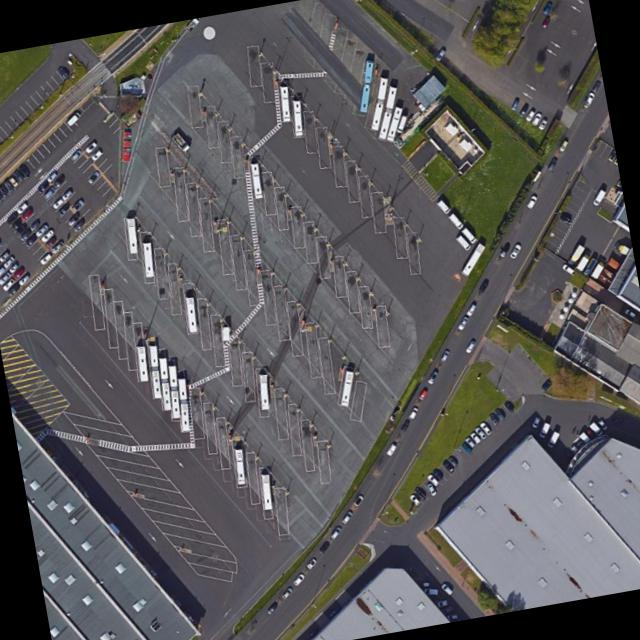large-vehicle: (369, 75, 388, 129), (378, 84, 396, 137), (461, 241, 485, 274), (359, 58, 373, 111), (167, 364, 180, 420), (148, 343, 161, 397), (158, 356, 170, 410), (177, 376, 189, 429), (386, 104, 403, 140), (340, 369, 353, 405), (574, 247, 592, 271), (136, 344, 148, 380), (567, 242, 585, 265), (589, 255, 606, 279), (185, 295, 196, 331), (251, 161, 262, 197), (292, 98, 303, 134), (261, 473, 272, 508), (142, 241, 153, 275), (127, 216, 137, 252), (280, 85, 290, 119), (235, 447, 244, 483), (581, 255, 597, 275), (259, 373, 268, 408)
small-vehicle: (170, 131, 191, 151), (459, 223, 476, 243), (447, 210, 464, 228), (591, 187, 606, 206), (454, 233, 471, 249), (40, 183, 57, 199), (64, 109, 81, 125), (49, 237, 65, 254), (537, 419, 551, 438), (595, 270, 611, 286), (50, 173, 66, 189), (55, 63, 70, 80), (545, 429, 559, 447), (411, 485, 426, 501), (587, 419, 602, 435), (59, 185, 74, 201), (4, 208, 19, 224), (17, 226, 33, 241), (11, 166, 26, 182), (86, 168, 101, 184), (17, 160, 31, 177), (11, 264, 25, 281), (43, 233, 58, 248), (35, 178, 50, 193), (13, 219, 28, 234), (22, 232, 37, 247), (435, 198, 450, 213), (0, 276, 15, 291), (38, 250, 53, 265), (578, 429, 592, 445), (10, 213, 24, 229), (28, 215, 42, 231), (433, 45, 447, 61), (70, 195, 84, 211), (426, 367, 439, 384), (600, 264, 615, 278), (539, 375, 553, 390), (45, 168, 59, 183), (51, 194, 65, 209), (35, 221, 49, 236), (2, 253, 16, 268), (6, 282, 21, 296), (16, 271, 30, 286), (66, 211, 80, 226), (441, 456, 454, 472), (525, 193, 538, 209), (476, 277, 489, 293), (329, 523, 342, 539), (509, 242, 521, 259), (56, 201, 70, 215), (39, 228, 53, 242), (424, 480, 437, 495), (21, 205, 34, 220), (292, 570, 305, 585), (69, 147, 82, 162), (498, 241, 510, 257), (584, 89, 595, 106), (430, 466, 443, 480), (478, 420, 491, 434), (15, 200, 28, 214), (340, 509, 353, 523), (83, 140, 97, 153), (463, 337, 475, 352), (446, 453, 458, 468), (426, 471, 438, 486), (530, 110, 542, 125), (562, 262, 575, 275), (440, 581, 453, 594), (468, 430, 481, 443), (473, 425, 486, 438), (502, 399, 515, 412), (540, 0, 553, 13), (524, 107, 536, 121), (518, 102, 530, 116), (557, 212, 571, 224), (352, 492, 364, 506), (466, 301, 477, 316), (399, 416, 410, 431), (385, 440, 396, 455), (457, 314, 468, 329), (0, 269, 11, 284), (510, 94, 520, 110), (408, 492, 421, 504), (460, 440, 472, 453), (487, 411, 499, 424), (1, 177, 13, 190), (265, 601, 277, 614), (281, 585, 293, 598), (318, 539, 330, 552), (71, 219, 83, 232), (407, 405, 418, 419), (537, 116, 548, 130), (557, 138, 568, 152), (546, 156, 557, 170), (440, 603, 454, 614), (493, 406, 504, 420), (462, 435, 476, 446), (8, 260, 19, 274), (591, 78, 601, 93), (305, 556, 317, 568), (7, 173, 18, 186), (596, 416, 607, 429), (417, 387, 428, 400), (624, 306, 636, 317), (91, 147, 102, 159), (0, 249, 10, 262), (422, 586, 438, 594), (541, 13, 550, 27), (439, 348, 449, 360), (569, 441, 579, 453), (531, 414, 540, 427), (0, 183, 8, 196), (435, 597, 447, 605), (445, 611, 457, 619), (417, 580, 429, 585), (0, 265, 6, 275)
